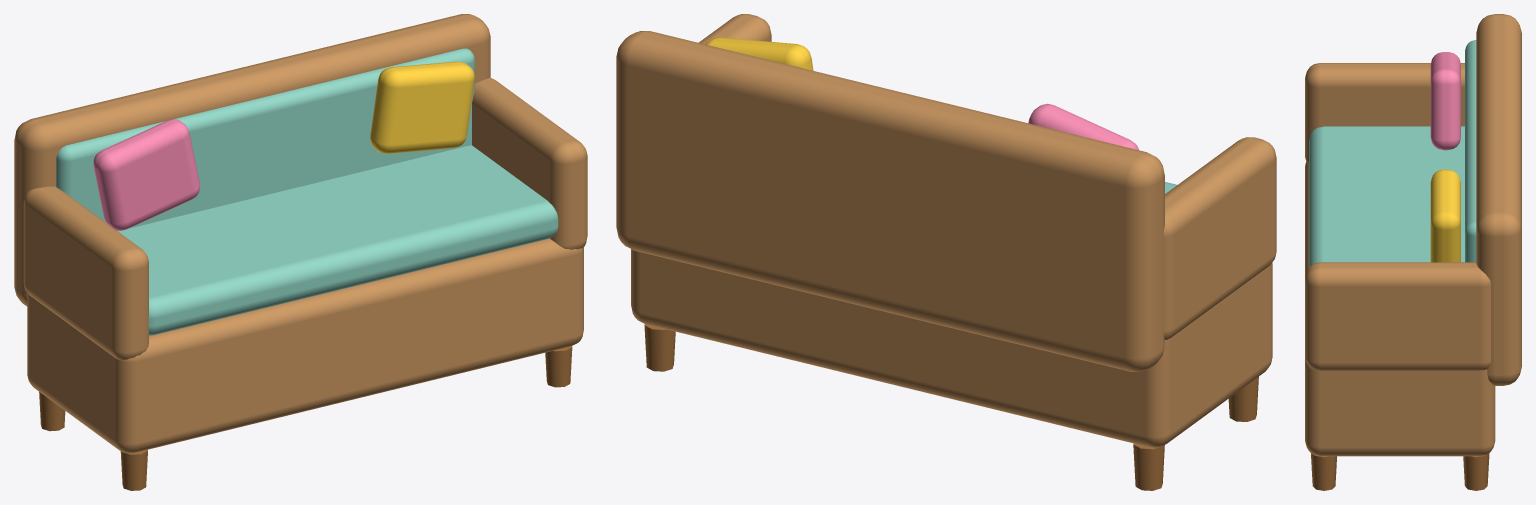
The model's file is bench-sofa.glb.
3 views of the same model, side by side, from view 1: azimuth 30°, elevation 25°; view 2: azimuth 150°, elevation 25°; view 3: azimuth 270°, elevation 25° (orthographic). The views are drawn at different scales.
Bounding box in the file's own units: 1.34 × 0.8 × 0.57.
